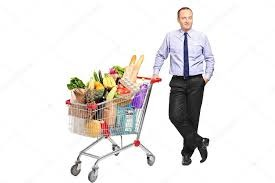with_basket: (67, 77, 161, 181)
without_mask: (177, 6, 193, 30)
